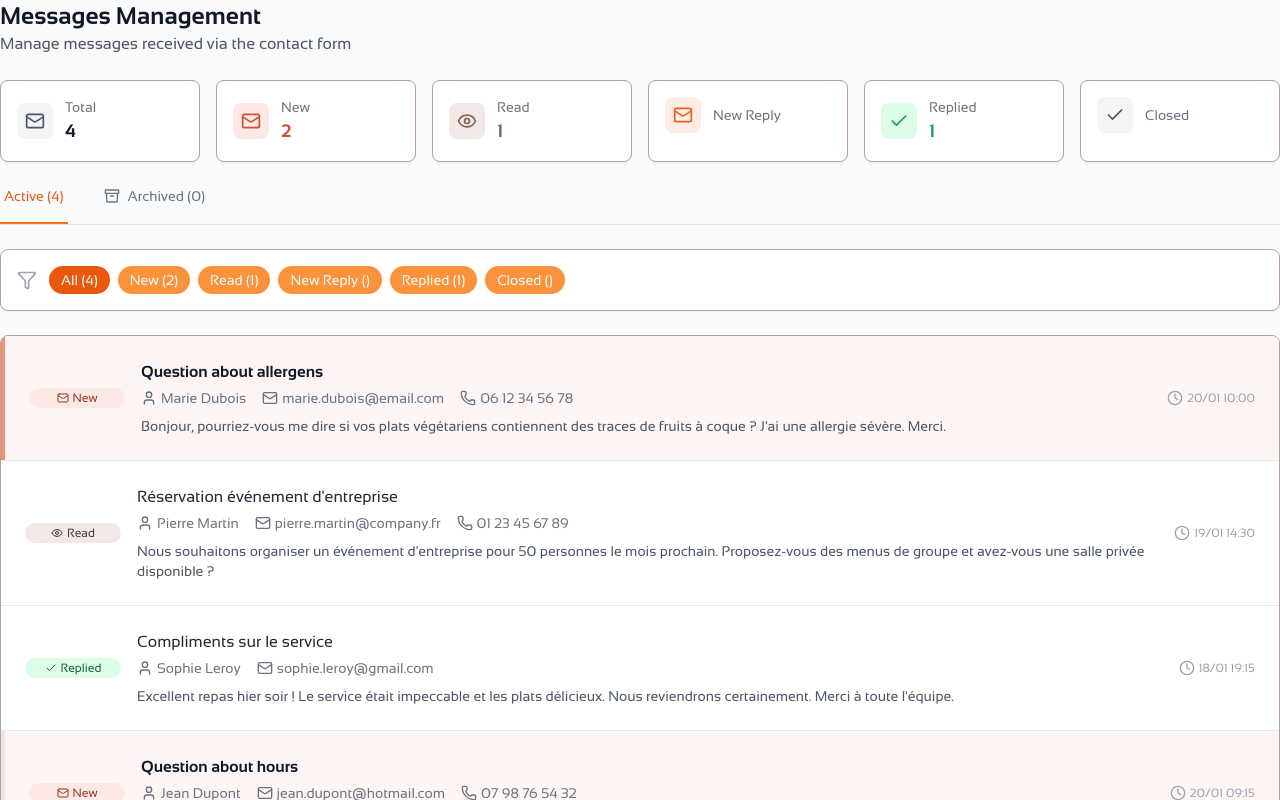
Test case: ContactsManagement Component › Message Actions › should open message modal when message is clicked
Step 1. Click the text "Question about allergens" → point(640, 398), box [1,336,1279,460]
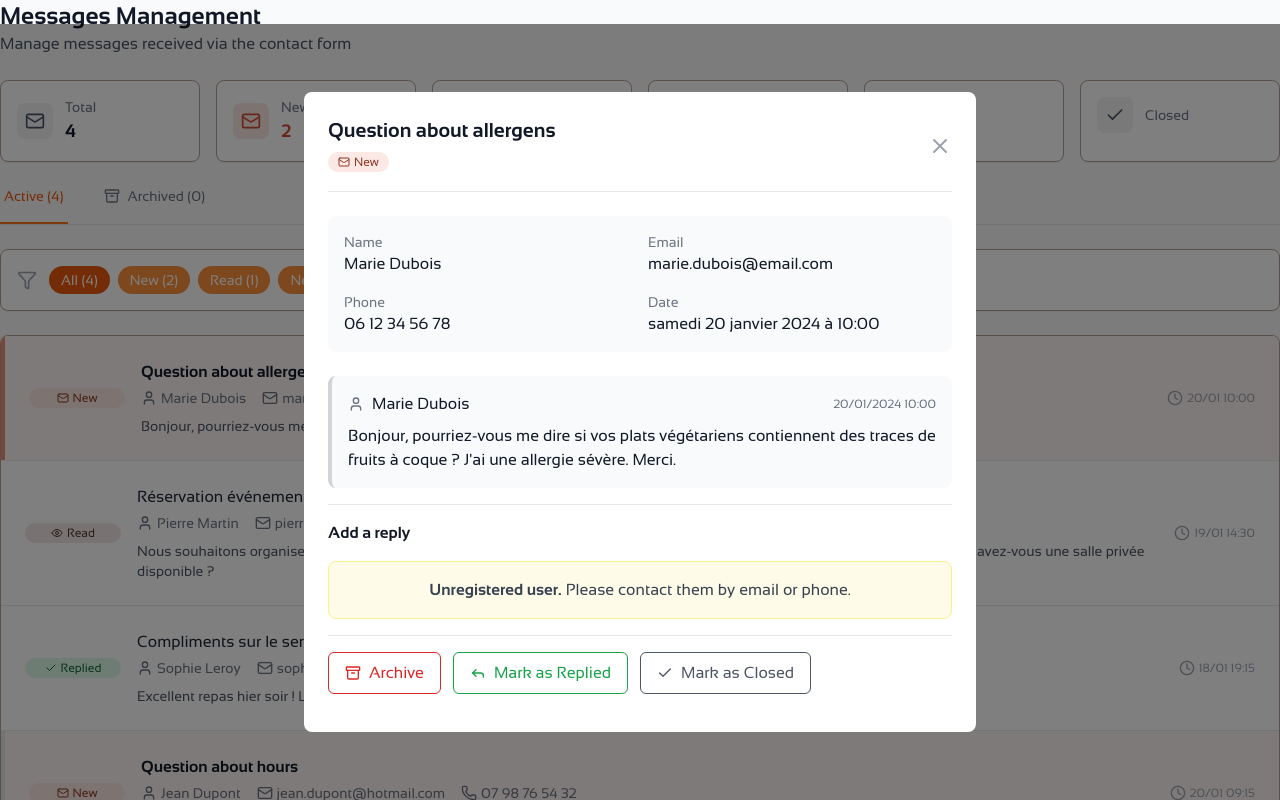
Expected: the text "Name" is shown, [344,234,383,250]
Expected: the text "Email" is shown, [648,234,684,250]
